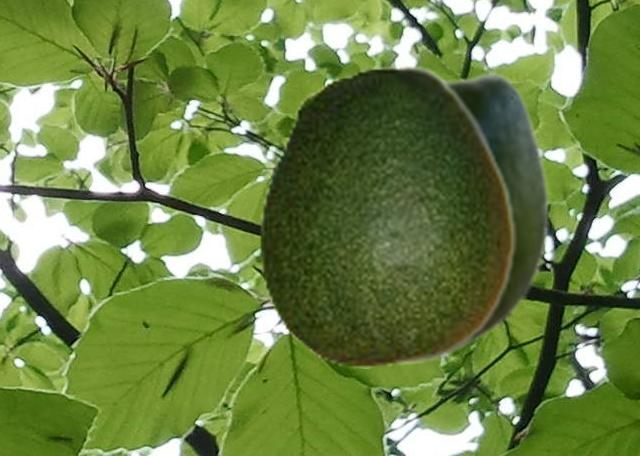avocado: (258, 64, 515, 367), (426, 70, 549, 364)
